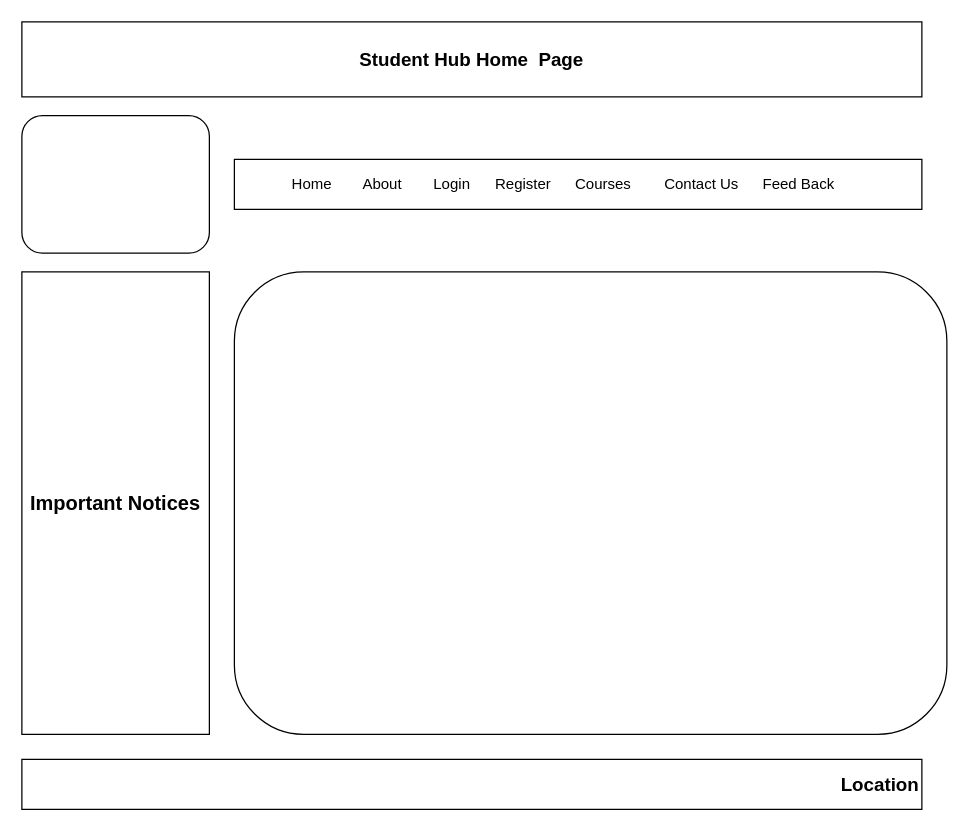
The diagram is 969 pixels wide and 831 high, and some of its shapes have lost their labels. Here are the shapes that lost their labels. From the top down, the centre of each, then its label:
At point (115, 183): "Logo".
At point (590, 502): "Content".
